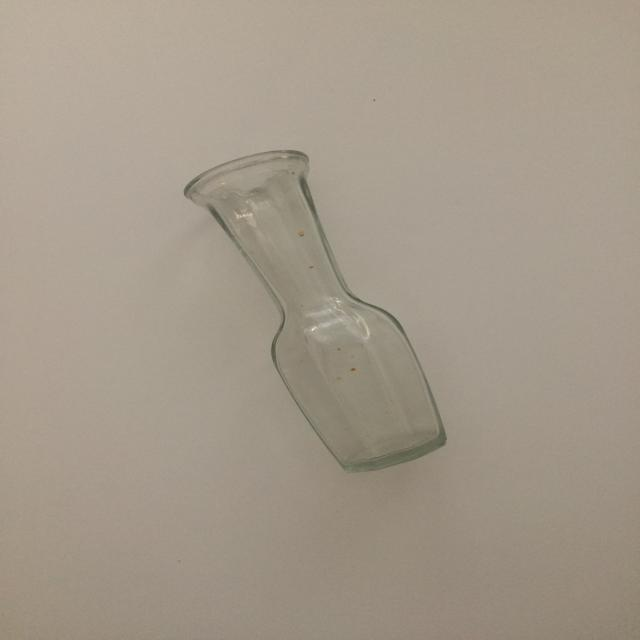glass: (182, 149, 448, 473)
